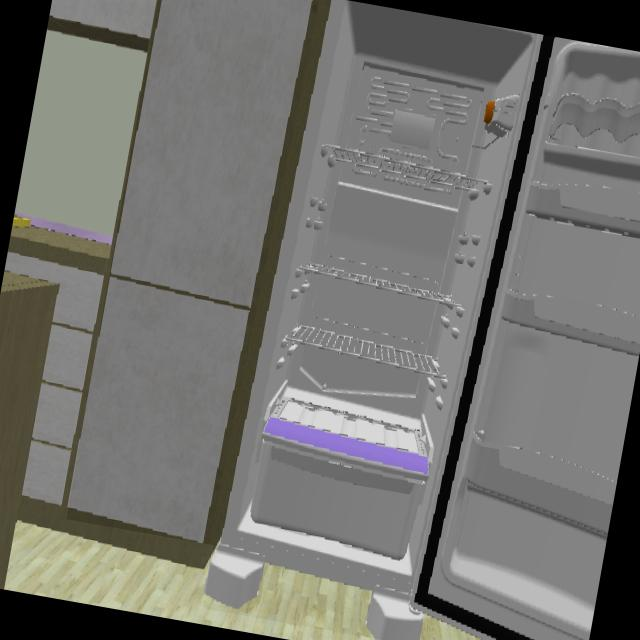cabinet: (68, 0, 312, 542)
fridge: (210, 0, 640, 640)
